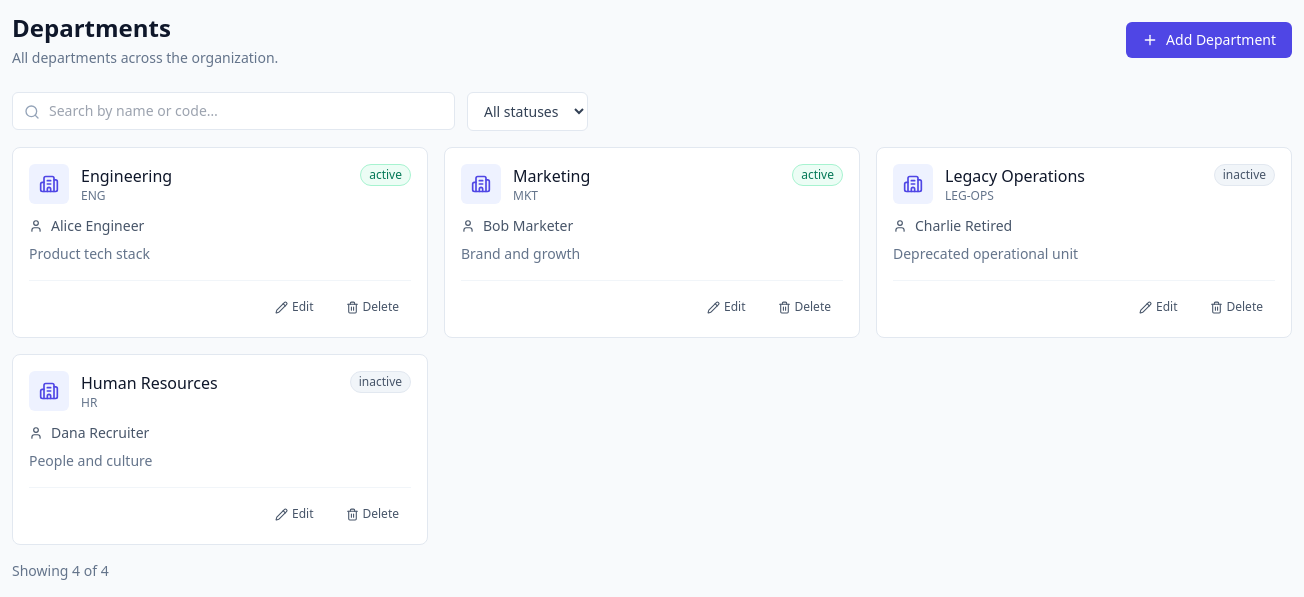
Test case: DepartmentsPage - Filtering and Interaction › combines search and status filters correctly
The width and height of the screenshot is (1304, 597).
Expected: the text "Engineering" is shown, [81,164,172,188]
# Select Inactive
Select "Inactive" in the dropdown named "filter by department status" at (528, 112), box [467,92,588,131]
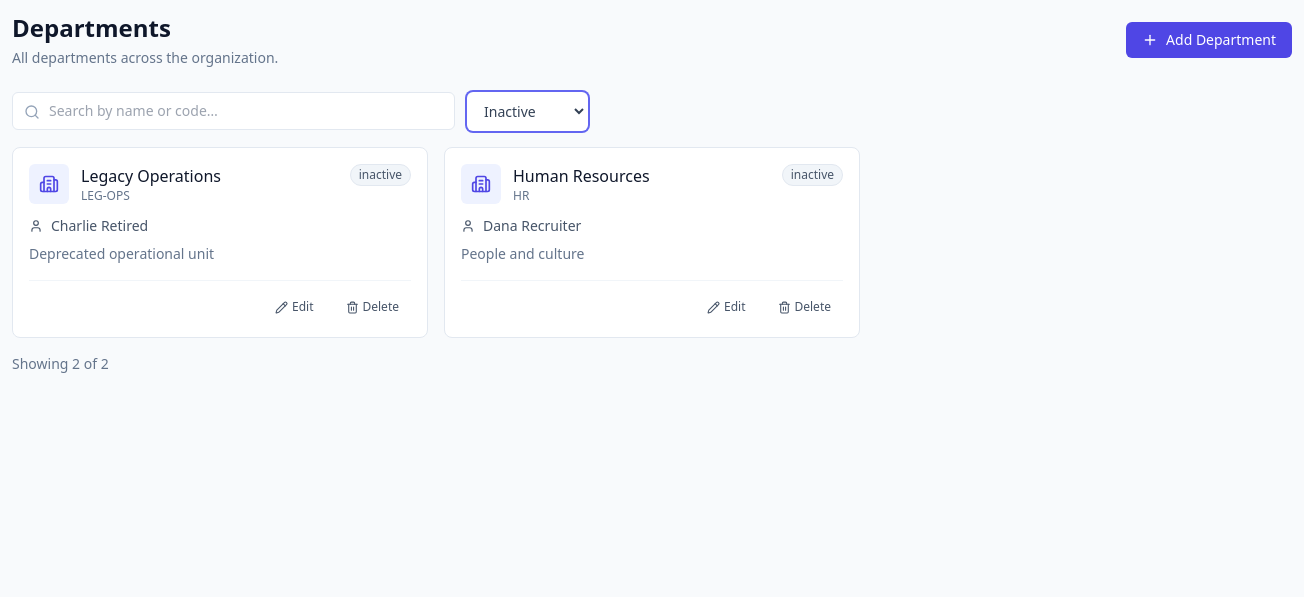
Expected: the text "Legacy Operations" is shown, [81,164,221,188]
Expected: the text "Human Resources" is shown, [513,164,650,188]
# Search for "Operations" while status is Inactive
Type "Operations" into the field with placeholder "Search by name or code…" at (234, 111), box [12,92,455,130]
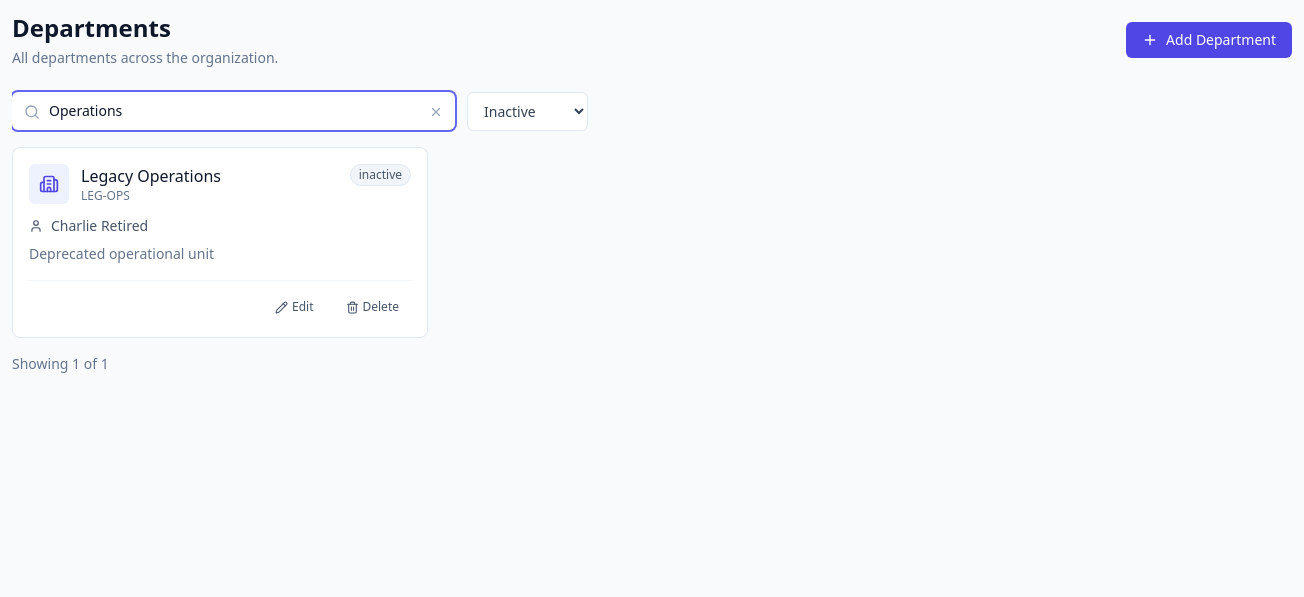
Expected: the text "Legacy Operations" is shown, [81,164,221,188]
Expected: the link "Human Resources" is gone
